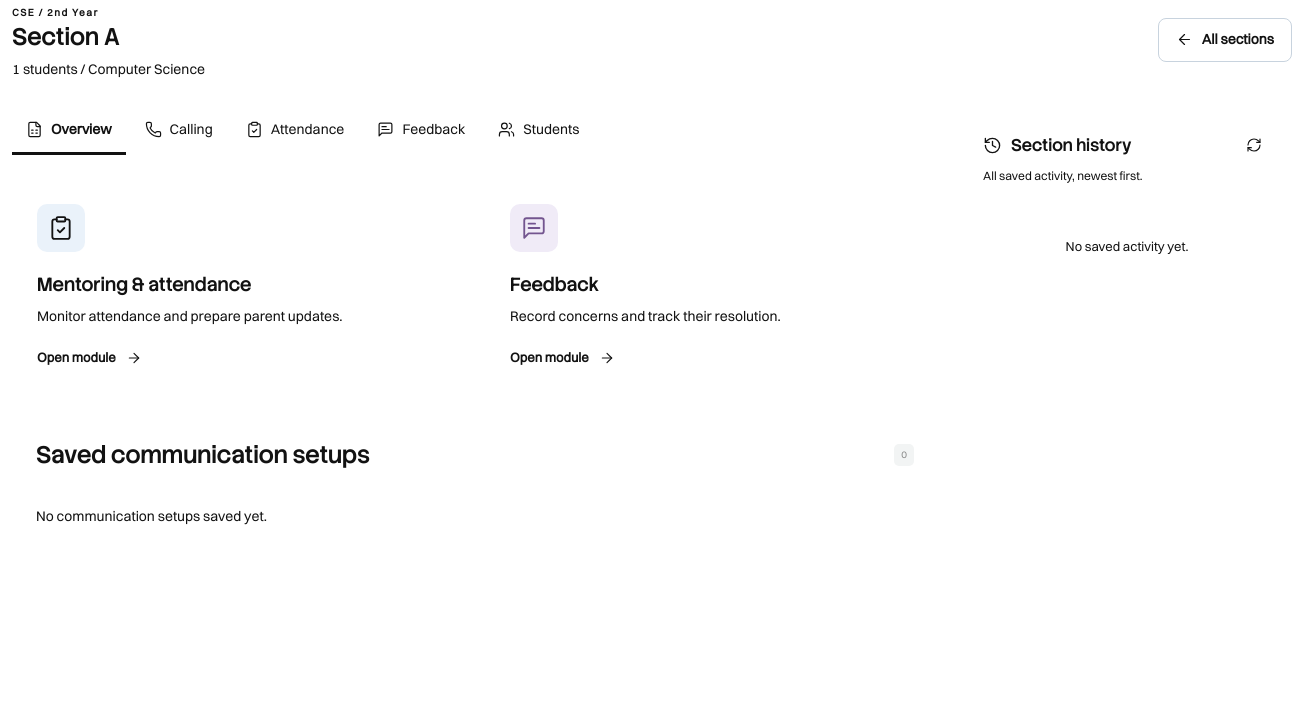
Test case: college dashboard › blocks edits after a failed attendance load until the saved records are retrieved
The width and height of the screenshot is (1304, 720).
Expected: the button "Mentoring & attendance" is shown, [12, 179, 465, 391]
Click the tab "Attendance" at (295, 131), box [232, 107, 358, 155]
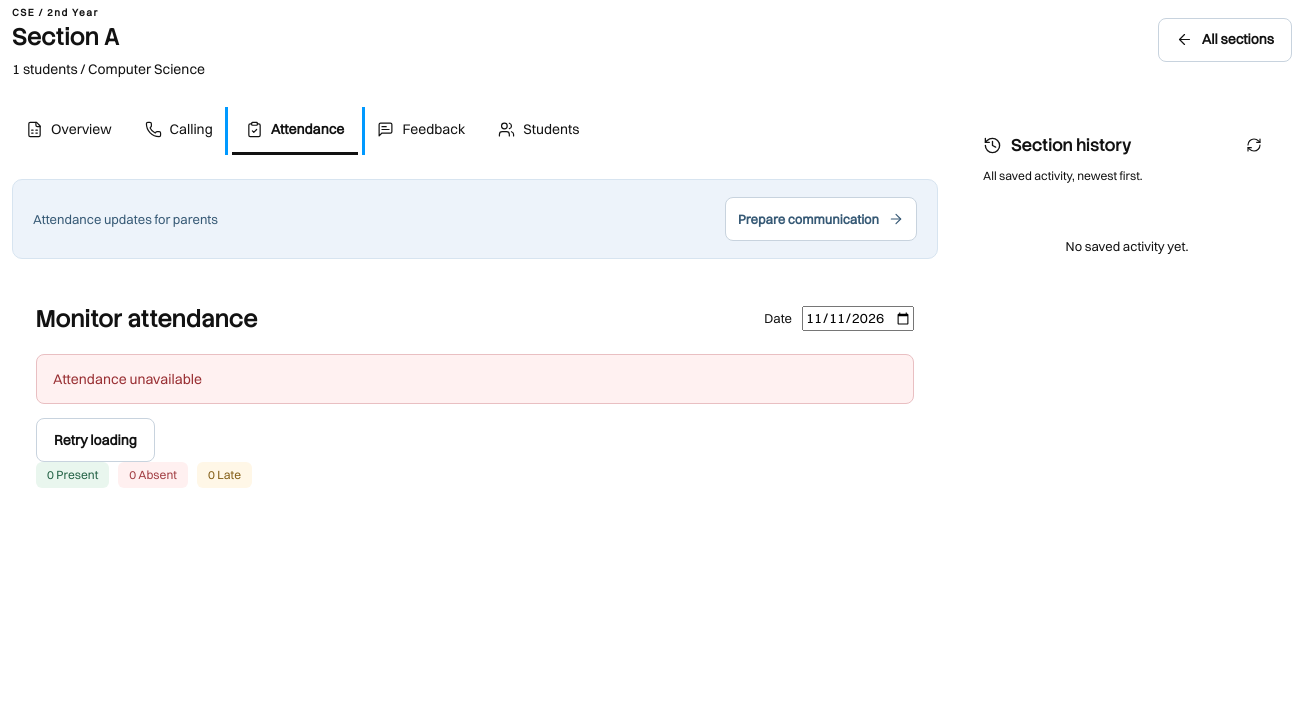
Result: the text "Attendance unavailable" is shown at [36, 354, 914, 404]
Click the button "Retry loading" at (95, 440), box [36, 418, 155, 462]
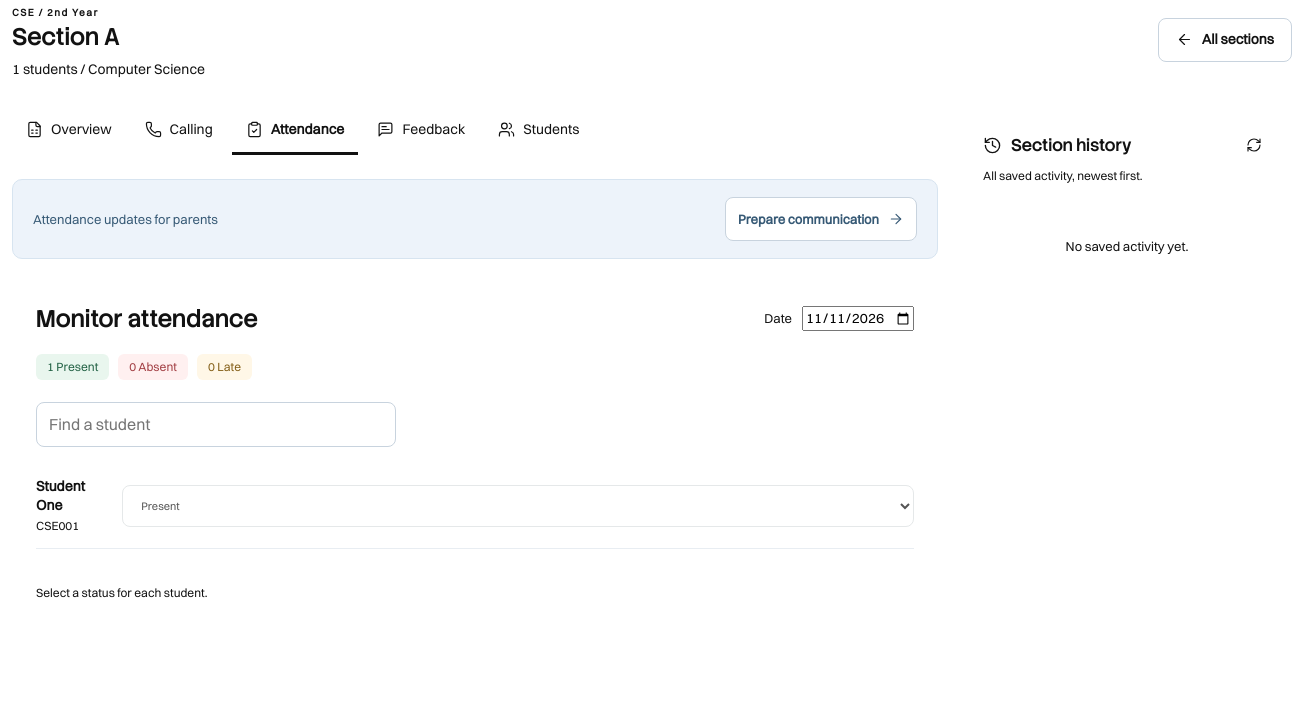
Result: the dropdown named "Attendance for Student One" shows "Present" at [122, 484, 914, 526]
